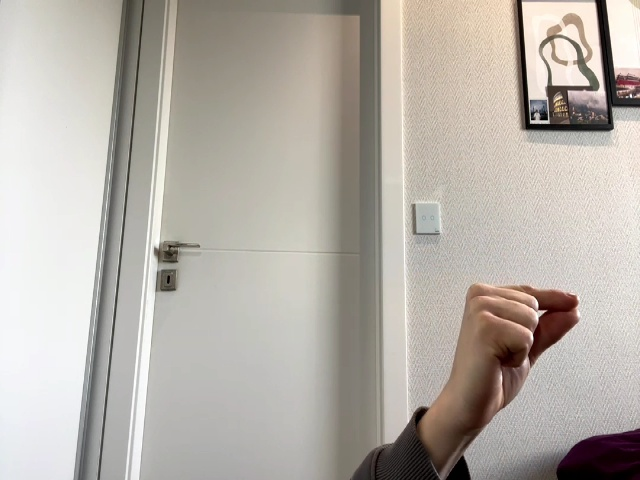P: (456, 284, 581, 404)
